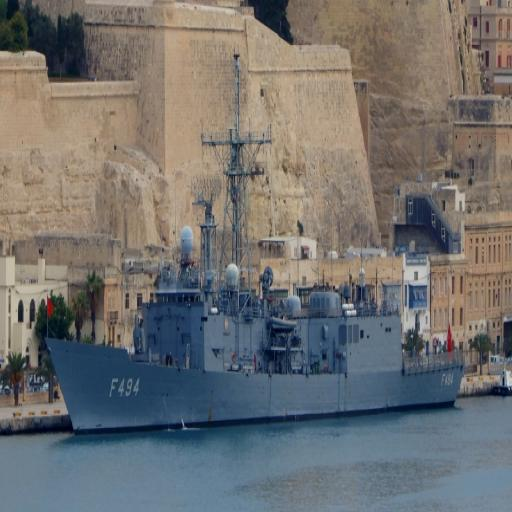Fragata: (42, 40, 470, 446)
